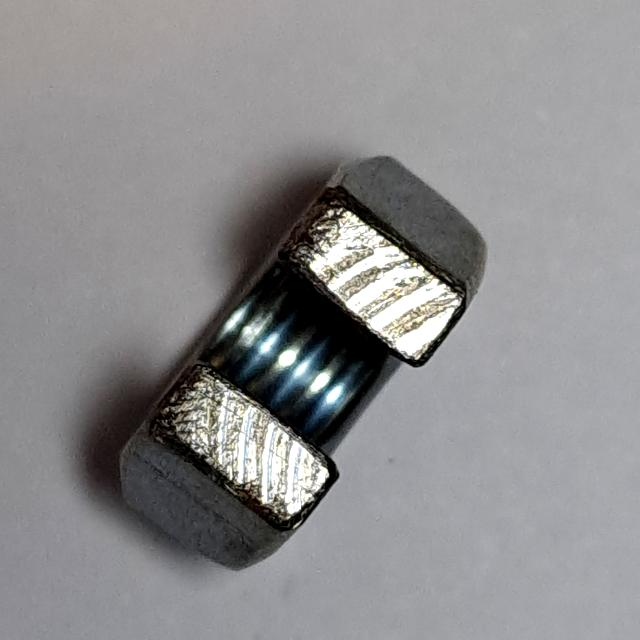Side-Fracture: (104, 141, 497, 593)
